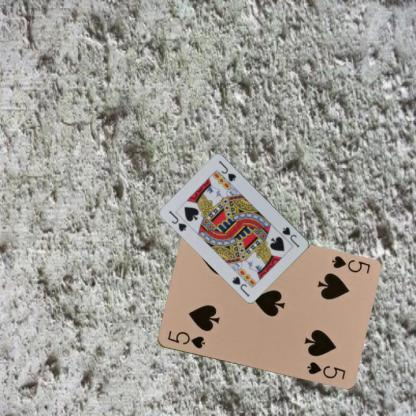5s: (328, 253, 372, 275), (165, 328, 206, 350)
Js: (166, 208, 188, 233), (280, 224, 301, 249)
